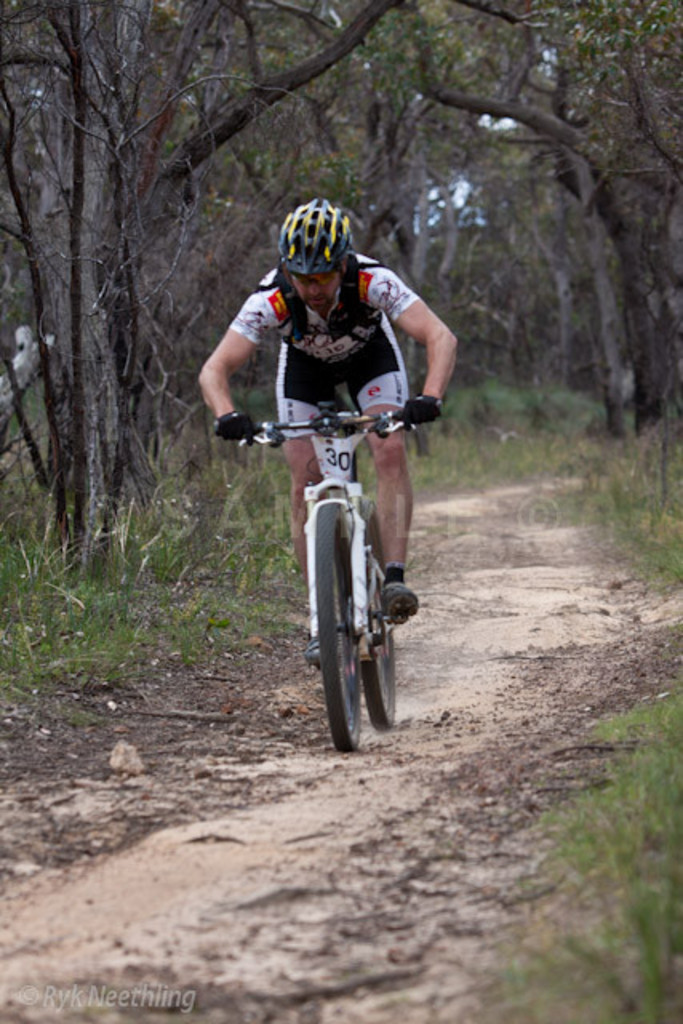Bike_toward: (210, 401, 450, 761)
